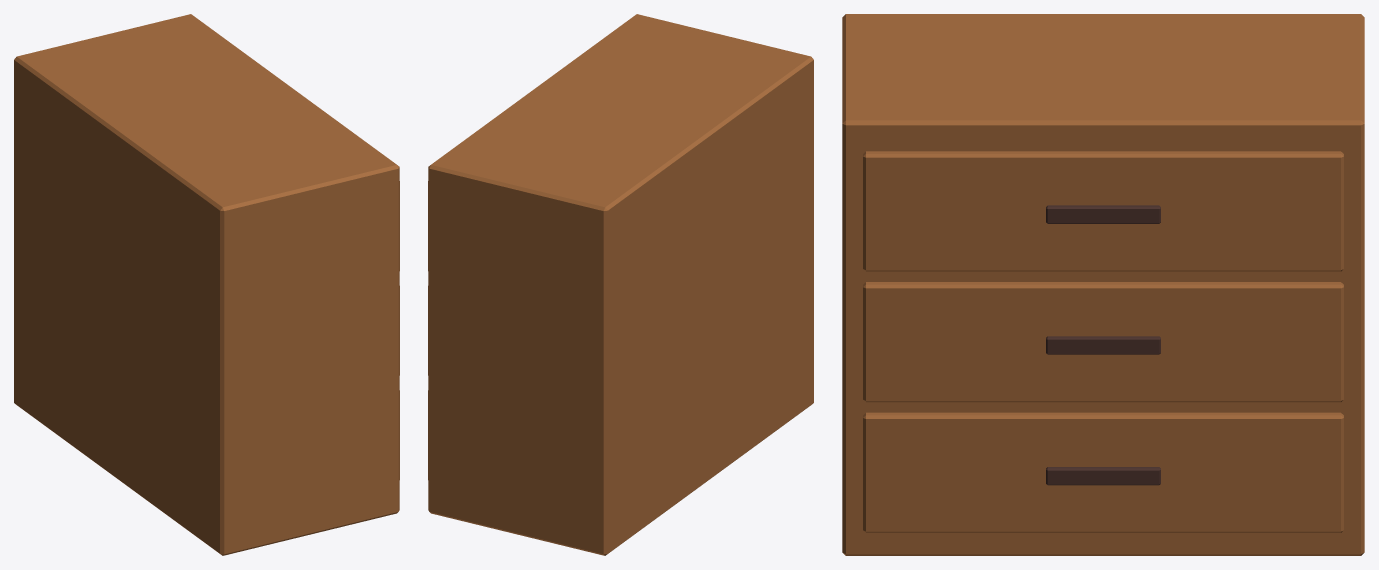
The model's file is commode_fer.glb.
3 views of the same model, side by side, from view 1: azimuth 30°, elevation 25°; view 2: azimuth 150°, elevation 25°; view 3: azimuth 270°, elevation 25° (orthographic). The views are drawn at different scales.
Parts seen in each view (by area): view 1: commode_fer; view 2: commode_fer; view 3: commode_fer.
Boxes of the visible parts, x1,y1,x2,y2 form: commode_fer: (14,14,399,555); commode_fer: (428,14,813,555); commode_fer: (842,14,1364,555).
Size of the model in its own units: 0.66 by 1.15 by 1.25.
Materials: 1 (1 with a texture image).
